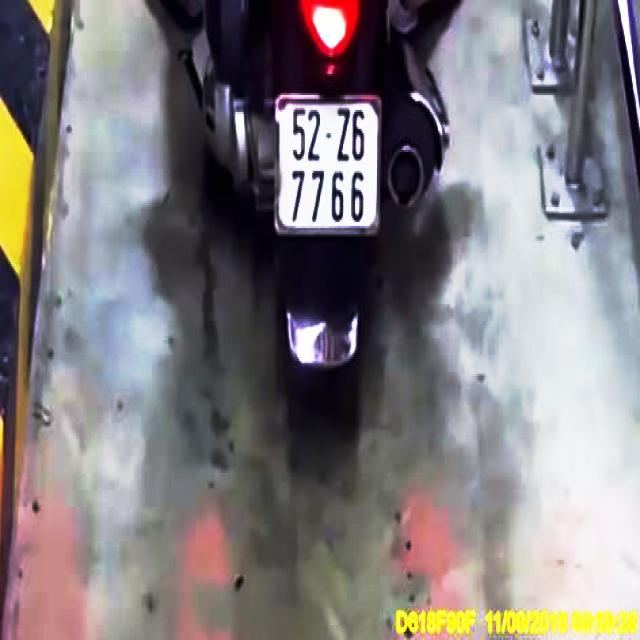license_plate: (277, 96, 382, 235)
